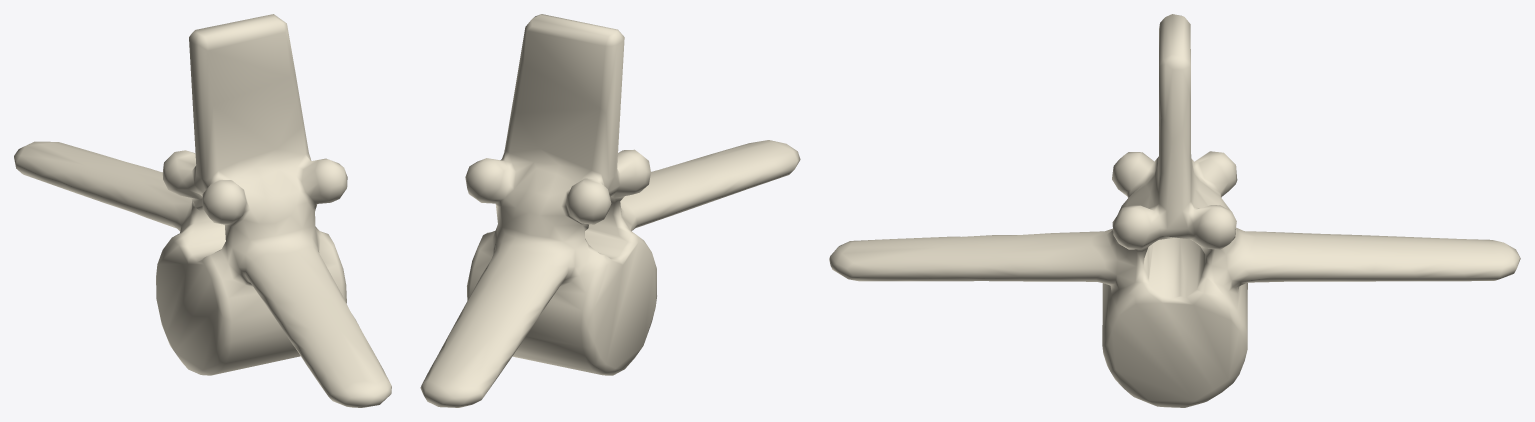
Rendered from lumbar_6.glb.
3 renders of one model, left to right at view 1: azimuth 30°, elevation 25°; view 2: azimuth 150°, elevation 25°; view 3: azimuth 270°, elevation 25°, orthographic.
Visible parts, largest first — view 1: geometry_0; view 2: geometry_0; view 3: geometry_0.
Part boxes in pixels (<box>): geometry_0: <box>14,14,391,407</box>; geometry_0: <box>420,14,800,407</box>; geometry_0: <box>829,14,1520,407</box>.
Bounding box in the file's own units: 0.155 × 0.3314 × 0.6084.
